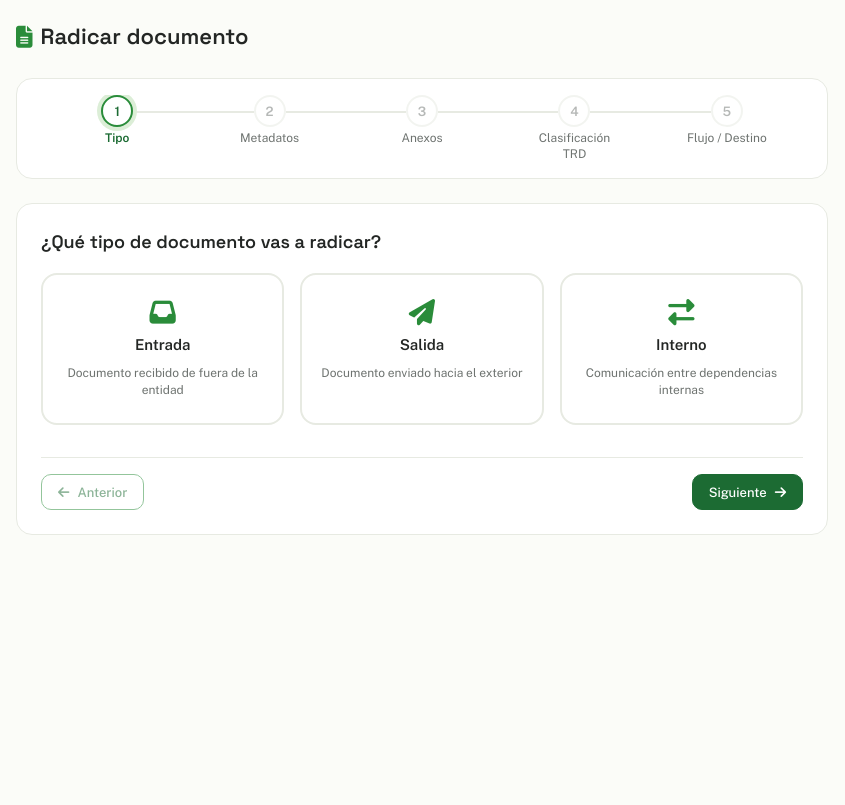
Scenario: vistas — el botón obedece a generationAvailable › radicar con generación: se ofrece sugerir (control positivo)
Click the radio button labelled "Salida Documento enviado hacia el exterior". click: point(422, 349)
box: [300, 273, 544, 425]
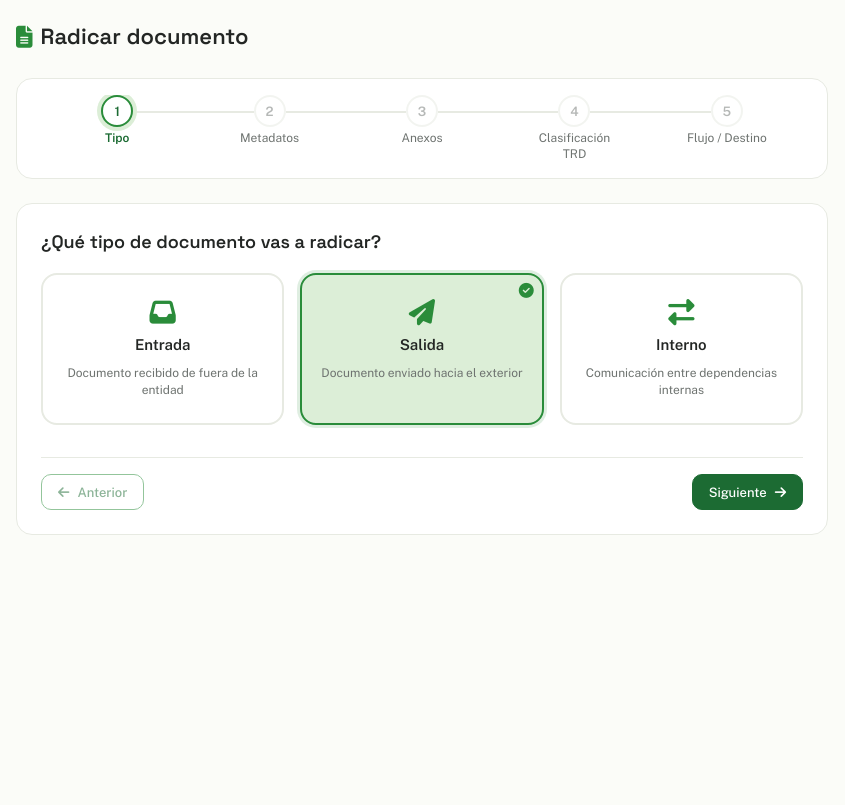
Click the 2nd button named "Siguiente". click: point(747, 492)
box: [692, 474, 803, 510]
(page scrolled)
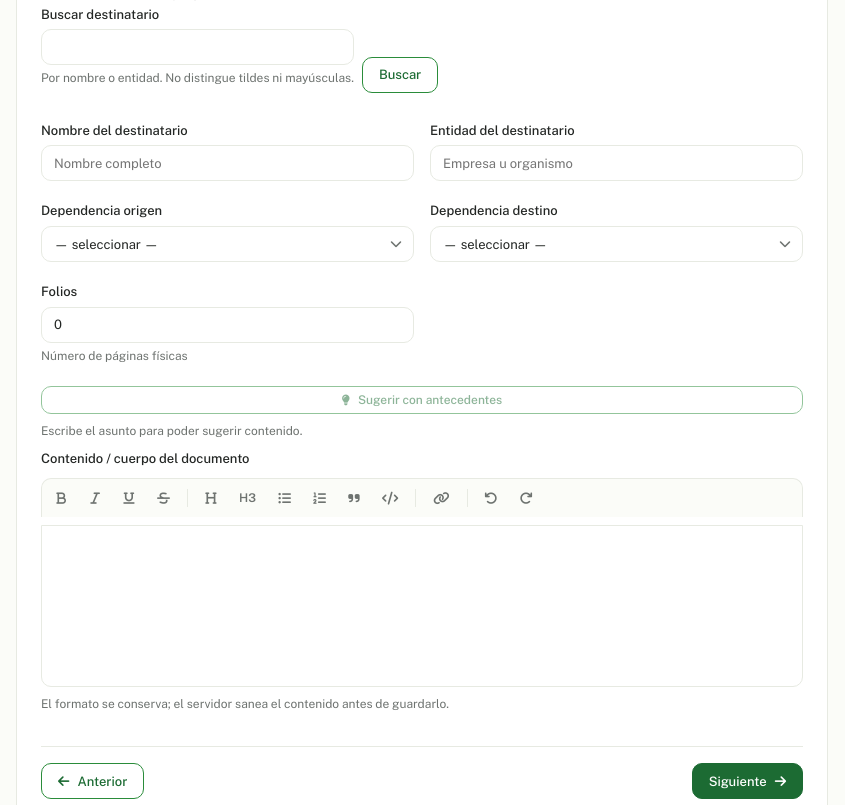
Expected: the text "Contenido / cuerpo del documento" is shown, [41, 451, 250, 466]
Expected: the 2nd button named "sugerir con antecedentes" is shown, [41, 386, 803, 414]
